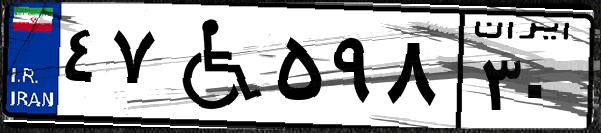0: (525, 38, 570, 115)
3: (475, 38, 525, 113)
4: (57, 26, 110, 100)
5: (270, 28, 330, 110)
7: (110, 28, 158, 98)
8: (385, 28, 445, 110)
9: (330, 28, 385, 110)
ژ (معلولین و جانبازان): (158, 12, 270, 120)
